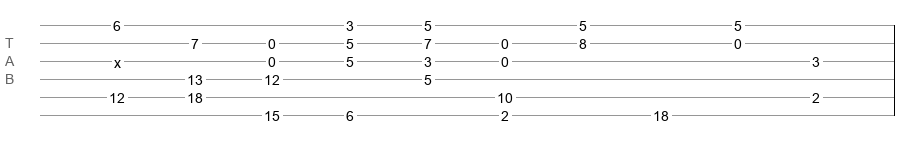0: (268, 54, 276, 64), (268, 36, 276, 46), (501, 36, 509, 46), (501, 54, 509, 64), (734, 36, 742, 46)
10: (497, 90, 513, 100)
12: (109, 90, 125, 100), (264, 72, 280, 82)
13: (187, 72, 203, 82)
15: (264, 108, 280, 118)
18: (187, 90, 203, 100), (653, 108, 669, 118)
2: (501, 108, 509, 118), (812, 90, 820, 100)
3: (346, 18, 354, 28), (424, 54, 432, 64), (812, 54, 820, 64)
5: (346, 54, 354, 64), (346, 36, 354, 46), (424, 72, 432, 82), (424, 18, 432, 28), (579, 18, 587, 28), (734, 18, 742, 28)
6: (113, 18, 121, 28), (346, 108, 354, 118)
7: (191, 36, 199, 46), (424, 36, 432, 46)
8: (579, 36, 587, 46)
x: (114, 55, 121, 63)
